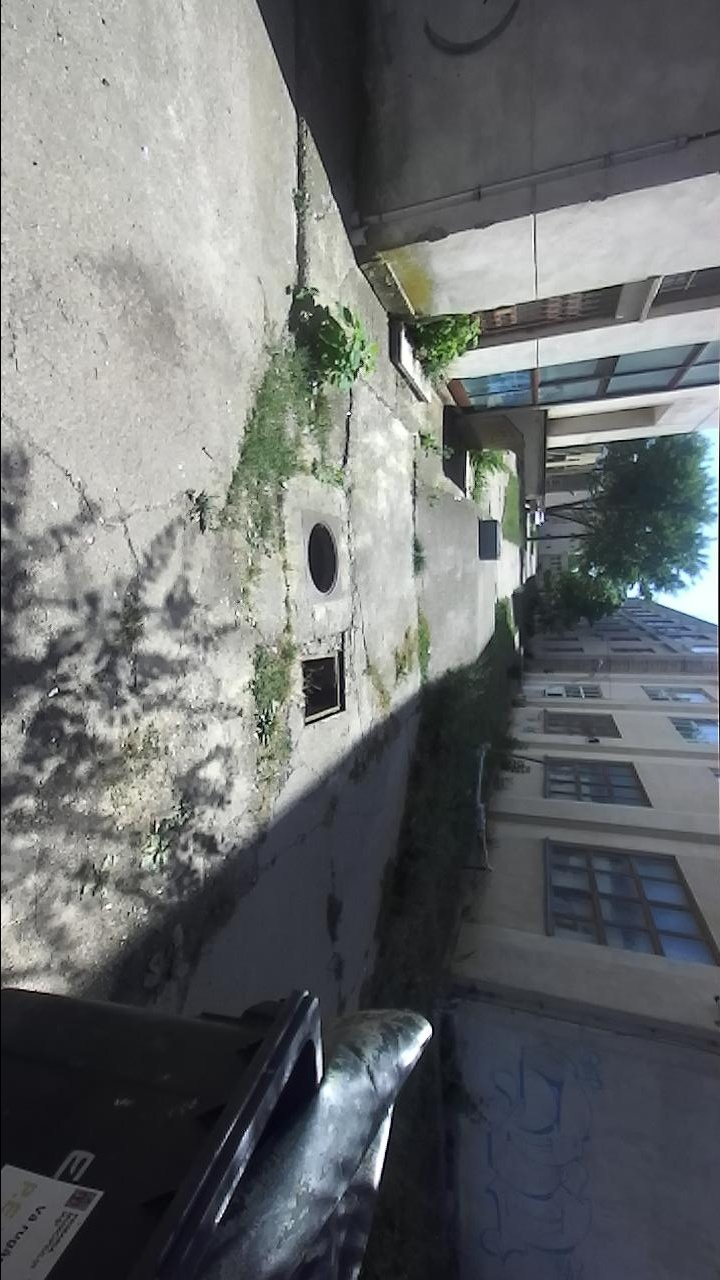drain: (298, 629, 348, 730), (305, 515, 340, 604)
